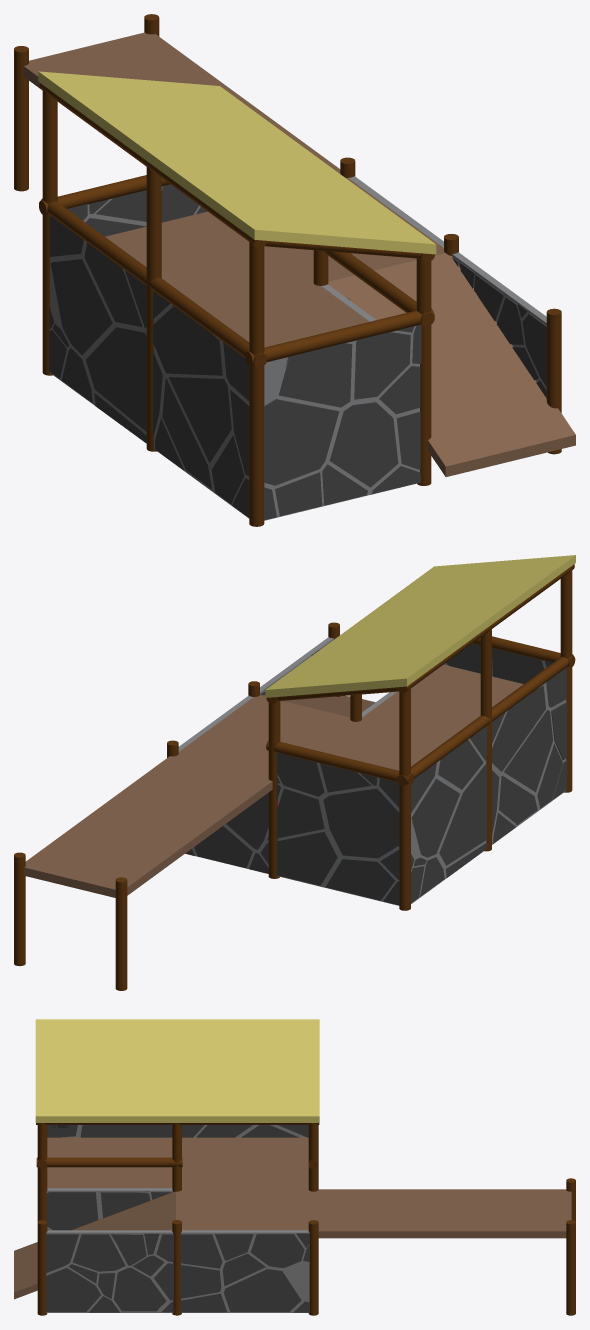
File: FishingHut.fbx
3 renders of one model, top to bottom at view 1: azimuth 30°, elevation 25°; view 2: azimuth 150°, elevation 25°; view 3: azimuth 270°, elevation 25°, orthographic. The views are drawn at different scales.
Visible parts, largest first — view 1: Stone Walls, Dock, Struts, Roof, Clay Wall; view 2: Stone Walls, Dock, Roof, Struts, Clay Wall; view 3: Dock, Roof, Stone Walls, Struts, Clay Wall.
Part boxes in pixels (box(x1,y1,x2,y2)): Stone Walls: box(49, 184, 546, 520); Dock: box(23, 32, 575, 476); Struts: box(14, 14, 561, 526); Roof: box(38, 71, 436, 254); Clay Wall: box(50, 176, 546, 520); Stone Walls: box(185, 643, 567, 905); Dock: box(24, 664, 523, 897); Roof: box(265, 555, 575, 697); Struts: box(14, 564, 575, 990); Clay Wall: box(178, 637, 566, 905); Dock: box(14, 1137, 571, 1299); Roof: box(35, 1019, 319, 1122); Stone Walls: box(46, 1125, 309, 1312); Struts: box(36, 1123, 575, 1315); Clay Wall: box(46, 1125, 309, 1312).
Size of the model in its own units: 134 by 123 by 318.
